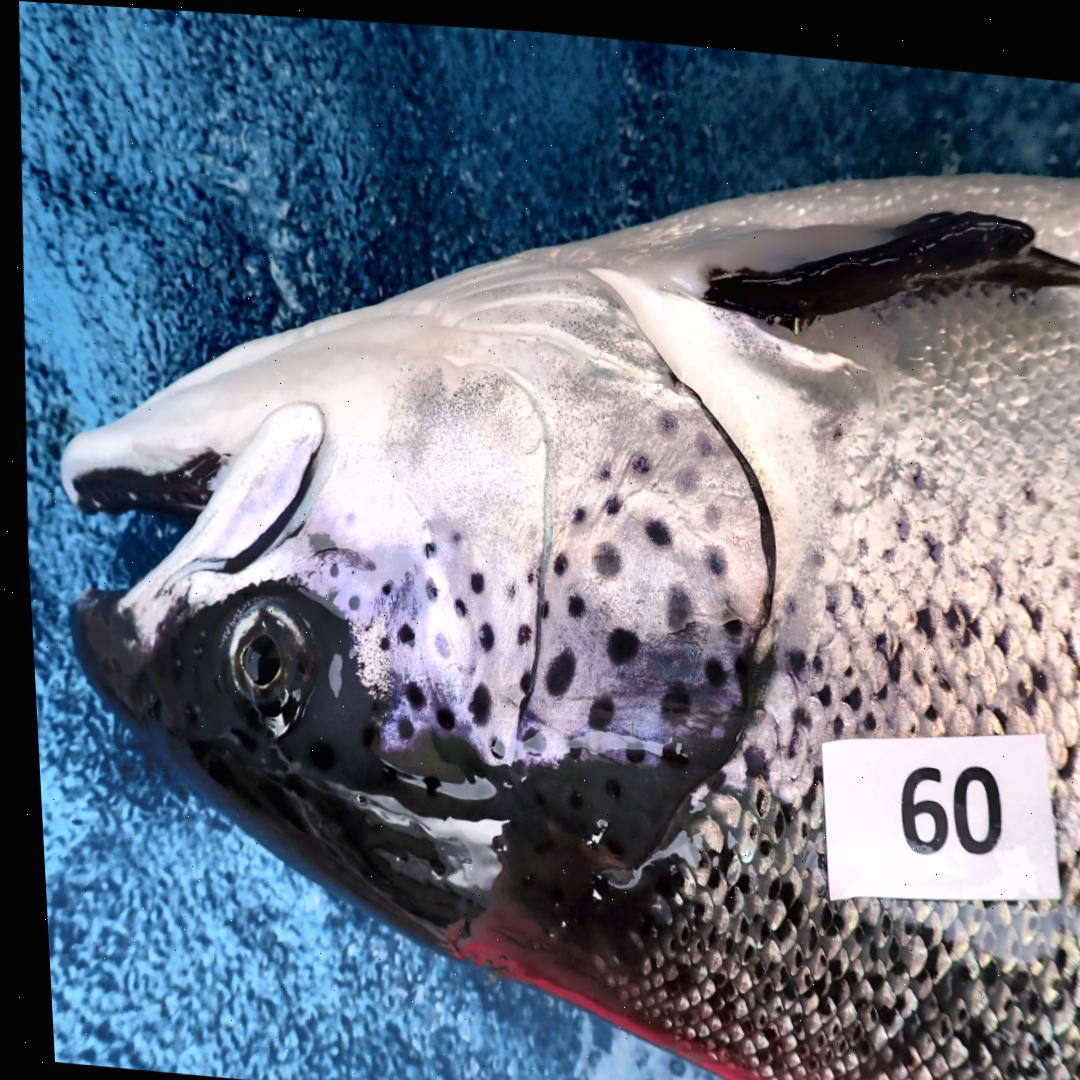spot: (538, 641, 568, 689), (654, 673, 684, 720), (660, 576, 687, 623), (600, 620, 633, 657), (460, 677, 484, 718), (587, 535, 615, 569), (667, 454, 695, 488), (580, 687, 607, 722), (639, 511, 665, 537), (515, 720, 537, 749), (654, 737, 680, 761), (652, 403, 674, 431), (714, 600, 735, 629), (700, 538, 720, 567), (698, 648, 718, 677), (698, 495, 716, 522), (561, 586, 579, 611), (399, 677, 417, 702), (689, 421, 707, 446), (428, 702, 447, 725), (617, 734, 638, 754), (427, 627, 443, 653), (472, 617, 487, 644), (627, 446, 645, 467), (512, 664, 525, 691), (389, 713, 406, 733), (390, 618, 407, 638), (598, 488, 615, 507), (547, 546, 561, 568), (482, 731, 496, 753), (463, 566, 477, 587), (510, 618, 524, 638), (419, 572, 431, 594), (447, 592, 460, 611), (558, 734, 573, 750), (567, 500, 580, 516), (418, 536, 429, 552), (342, 591, 353, 606), (594, 457, 605, 471), (375, 576, 386, 590), (372, 632, 382, 646), (323, 559, 332, 573), (535, 594, 542, 611), (446, 525, 455, 537), (501, 578, 508, 592), (520, 565, 528, 577)
